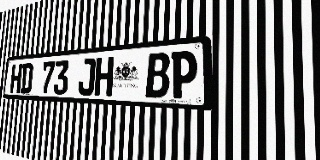3: (53, 60, 69, 95)
7: (40, 61, 55, 94)
B: (145, 52, 170, 98)
D: (20, 63, 33, 94)
H: (94, 56, 114, 96), (10, 64, 22, 93)
J: (77, 58, 96, 96)
P: (170, 50, 198, 99)
